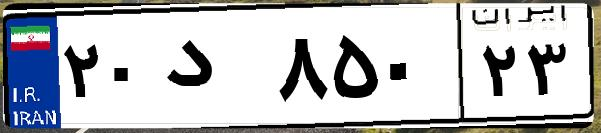0: (385, 28, 445, 110), (110, 28, 158, 98)
2: (57, 26, 110, 100), (475, 38, 525, 113)
3: (525, 38, 570, 115)
5: (330, 28, 385, 110)
8: (270, 28, 330, 110)
د: (158, 20, 270, 120)
